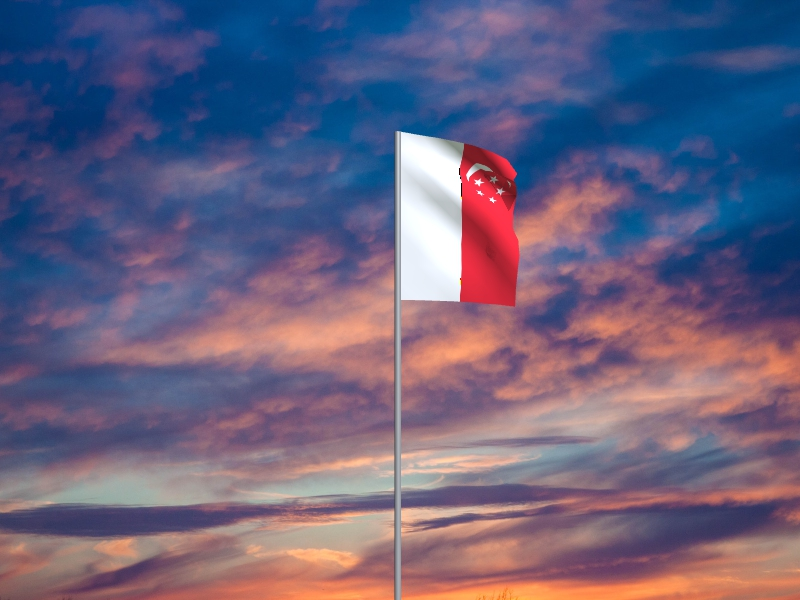sg: (401, 133, 521, 308)
